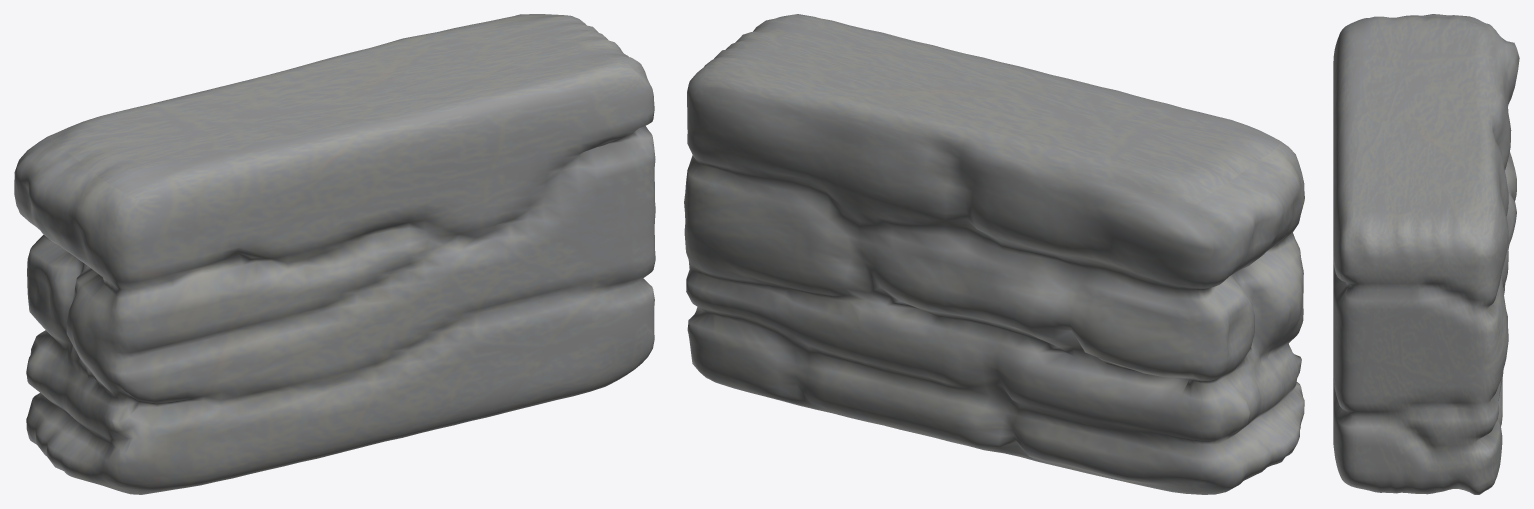
The model's file is rock.gltf.
The picture shows the model from 3 angles, left to right: view 1: azimuth 30°, elevation 25°; view 2: azimuth 150°, elevation 25°; view 3: azimuth 270°, elevation 25°; orthographic projection. The views are drawn at different scales.
Visible parts, largest first — view 1: Cube; view 2: Cube; view 3: Cube.
Boxes of the visible parts, x1,y1,x2,y2 form: Cube: [14, 14, 655, 494]; Cube: [684, 14, 1304, 494]; Cube: [1333, 14, 1519, 494].
Bounding box in the file's own units: 4.05 × 2.16 × 1.33.
1 material, 1 textured.
